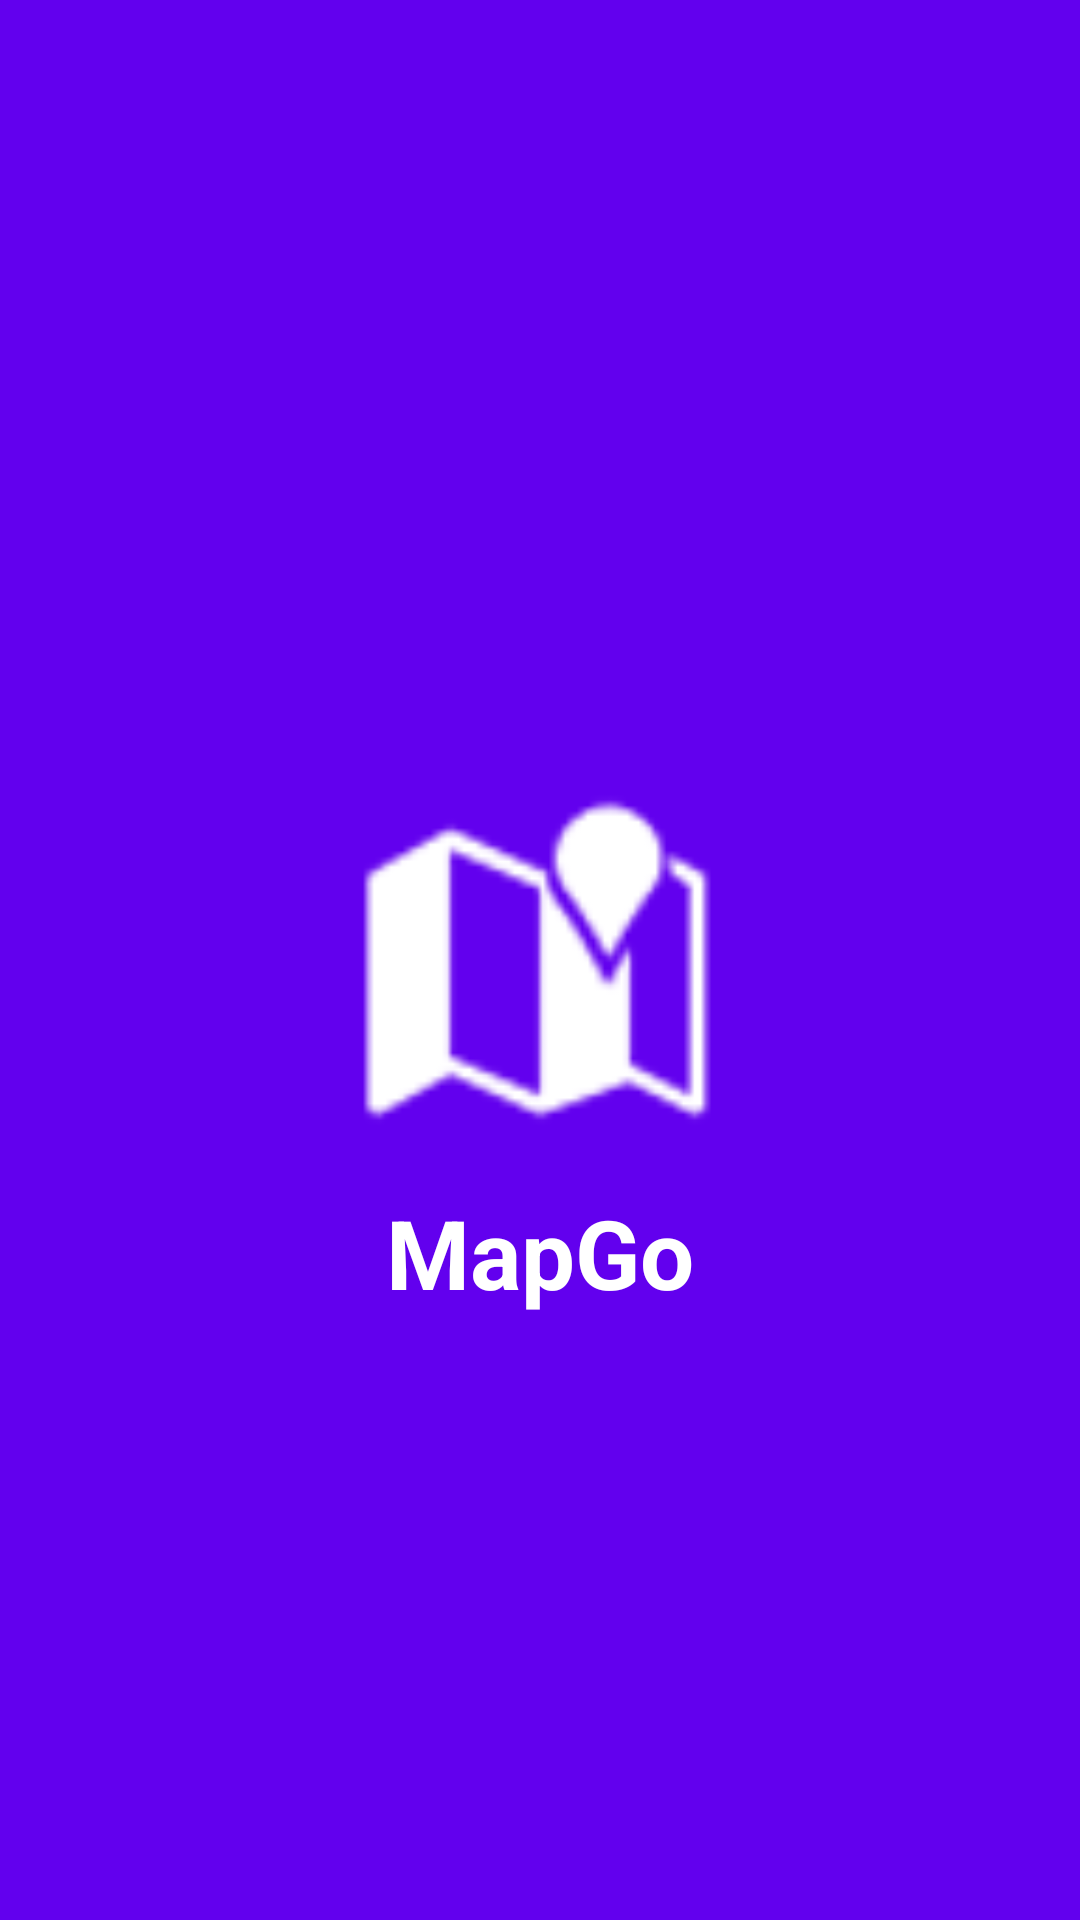

Icons on this 1080*1920 Android screen, each with its box as [x1, y1, x2, y2]:
map: [364, 801, 710, 1119]
